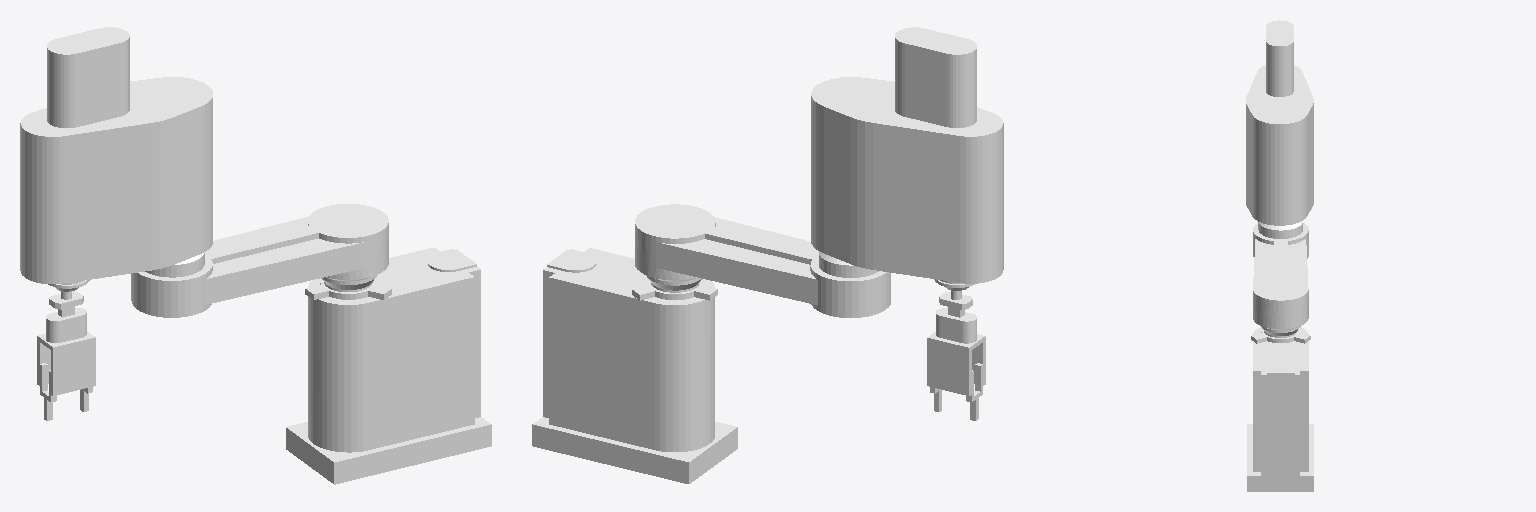
URDF robot description (scara):
<?xml version="1.0"?>

<robot name="scara">
	<link name="base_link">
		<visual>
			<origin xyz="-0.055 -0.06 0"/>
			<geometry>
				<mesh filename="package://scara_robot/meshes/base.STL" scale="0.001 0.001 0.001"/>
			</geometry>
			<material name="white">
				<color rgba="1.0 1.0 1.0"/>
			</material>
		</visual>
		<collision>
			<origin xyz="0 0 0.119" rpy="0 0 0"/>
			<geometry>
				<box size="0.223 0.12 0.238"/>
			</geometry>
		</collision>
		<inertial>
			<mass value="5"/>
			<inertia ixx="0" ixy="0" ixz="0" iyy="0" iyz="0" izz="0"/>
		</inertial>
	</link>
	
	<joint name="base_to_link1" type="revolute">
		<parent link="base_link"/>
		<child link="link1"/>
		<axis xyz="0 0 1"/>
		<limit effort="1000.0" lower="-2.094395" upper="2.094395" velocity="0.2"/>
		<origin xyz="0 0 0.238"/>
	</joint>
	
	<link name="link1">
		<visual>
			<origin xyz="-0.3 -0.05 -0.2"/>
			<geometry>
				<mesh filename="package://scara_robot/meshes/link1.STL" scale="0.001 0.001 0.001"/>
			</geometry>
			<material name="white">
				<color rgba="1.0 1.0 1.0 1.0"/>
			</material>
		</visual>
		<collision>
			<origin xyz="-0.175 0 0.025"/>
			<geometry>
				<box size="0.35 0.1 0.05"/>
			</geometry>
		</collision>
		<inertial>
			<mass value="2"/>
			<inertia ixx="0" ixy="0" ixz="0" iyy="0" iyz="0" izz="0"/>
		</inertial>
	</link>
	
	<joint name="link1_to_link2" type="revolute">
		<parent link="link1"/>
		<child link="link2"/>
		<limit effort="1000.0" lower="-2.268928" upper="2.268928" velocity="0.2"/>
		<axis xyz="0 0 1"/>
		<origin xyz="-0.25 0 0.088"/>
	</joint>
	
	<link name="link2">
		<visual>
			<origin xyz="-0.21 -0.0629248 0"/>
			<geometry>
				<mesh filename="package://scara_robot/meshes/link2.STL" scale="0.001 0.001 0.001"/>
			</geometry>
			<material name="white">
				<color rgba="1.0 1.0 1.0 1.0"/>
			</material>
		</visual>
		<collision>
			<origin xyz="-0.65 0 0.15"/>
			<geometry>
				<box size="0.13 0.28 0.3"/>
			</geometry>
		</collision>
		<inertial>
			<mass value="3"/>
			<inertia ixx="0" ixy="0" ixz="0" iyy="0" iyz="0" izz="0"/>
		</inertial>
	</link>
	
	<joint name="link2_to_link3" type="prismatic">
		<parent link="link2"/>
		<child link="link3"/>
		<limit effort="1000.0" lower="-0.15" upper="0.0" velocity="0.002"/>
		<axis xyz="0 0 1" rpy="0 0 1"/>
		<origin xyz="-0.15 0 0"/>
	</joint>
	
	<link name="link3">
		<visual>
			<origin xyz="-0.03 -0.02 -0.175"/>
			<geometry>
				<mesh filename="package://scara_robot/meshes/link3.STL" scale="0.001 0.001 0.001"/>
			</geometry>
			<material name="white">
				<color rgba="1.0 1.0 1.0 1.0"/>
			</material>
		</visual>
		<collision>
			<origin xyz="0 0 0"/>
			<geometry>
				<box size="0.06 0.04 0.355"/>
			</geometry>
		</collision>
		<inertial>
			<mass value="0.3"/>
			<inertia ixx="0" ixy="0" ixz="0" iyy="0" iyz="0" izz="0"/>
		</inertial>
	</link>
</robot>

--- Facts derived from the render (not from the file) ---
3 views of the same robot in one strip: view 1: azimuth 30°, elevation 25°; view 2: azimuth 150°, elevation 25°; view 3: azimuth 270°, elevation 25° (orthographic).
Robot: scara — 4 links, 3 joints (2 revolute, 1 prismatic); root link base_link; default pose: every joint at zero.
Visible links, largest first — view 1: link2, base_link, link1, link3; view 2: link2, base_link, link1, link3; view 3: link2, base_link, link1.
Boxes of the visible links, <box> form: link2: <box>20,27,212,291</box>; base_link: <box>286,247,491,484</box>; link1: <box>131,204,388,317</box>; link3: <box>37,291,95,420</box>; link2: <box>811,27,1003,290</box>; base_link: <box>532,248,737,483</box>; link1: <box>635,204,890,317</box>; link3: <box>927,290,985,420</box>; link2: <box>1246,20,1313,225</box>; base_link: <box>1247,327,1313,491</box>; link1: <box>1253,221,1308,337</box>.
Size in the robot's own frame: 0.6286 by 0.1229 by 0.652 metres.
Meshes: 4 distinct files referenced, 4 mesh visuals loaded (4 binary STL).